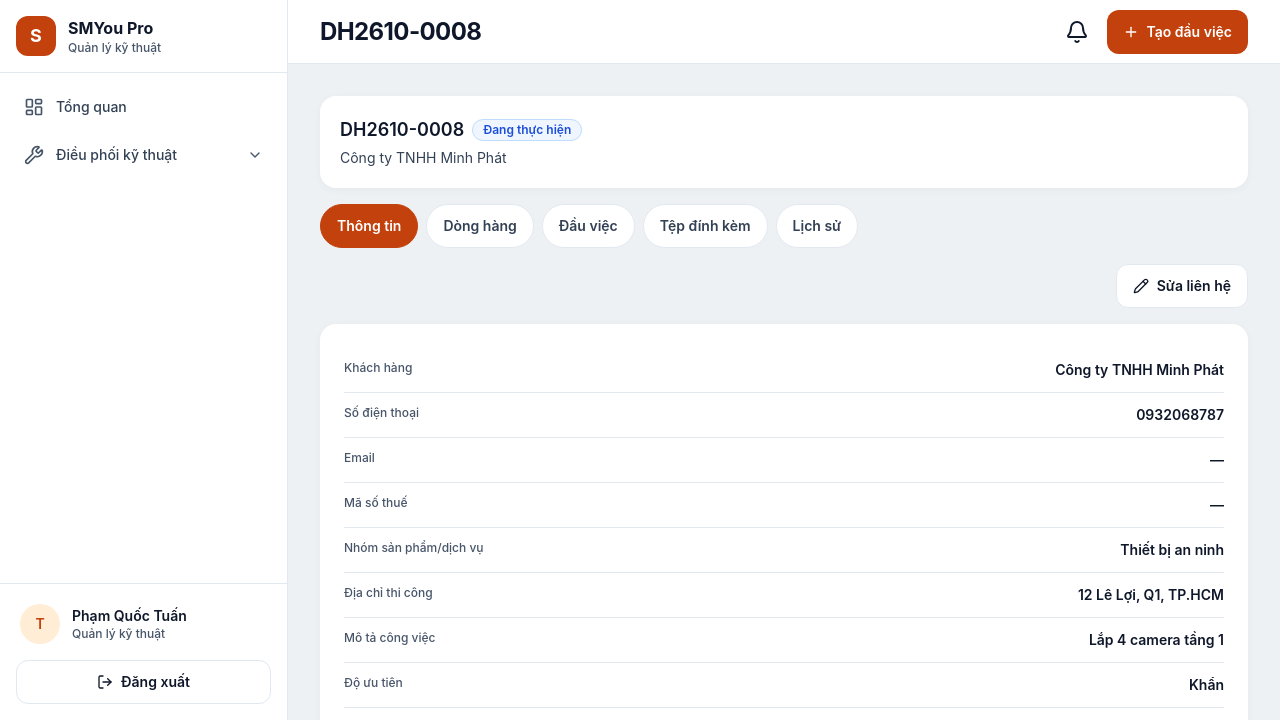
Test: Tab Đầu việc trên trang chi tiết đơn › AC-DSP-028 thứ tự 4 tab, nạp lười, 2 task đúng thứ tự + định dạng giờ/hạn/người giao
The width and height of the screenshot is (1280, 720).
Check: the heading "DH2610-0008" is shown, box top-left (320, 16), bottom-right (481, 48)
Click the tab "Đầu việc": (588, 226) top-left (542, 204), bottom-right (635, 248)
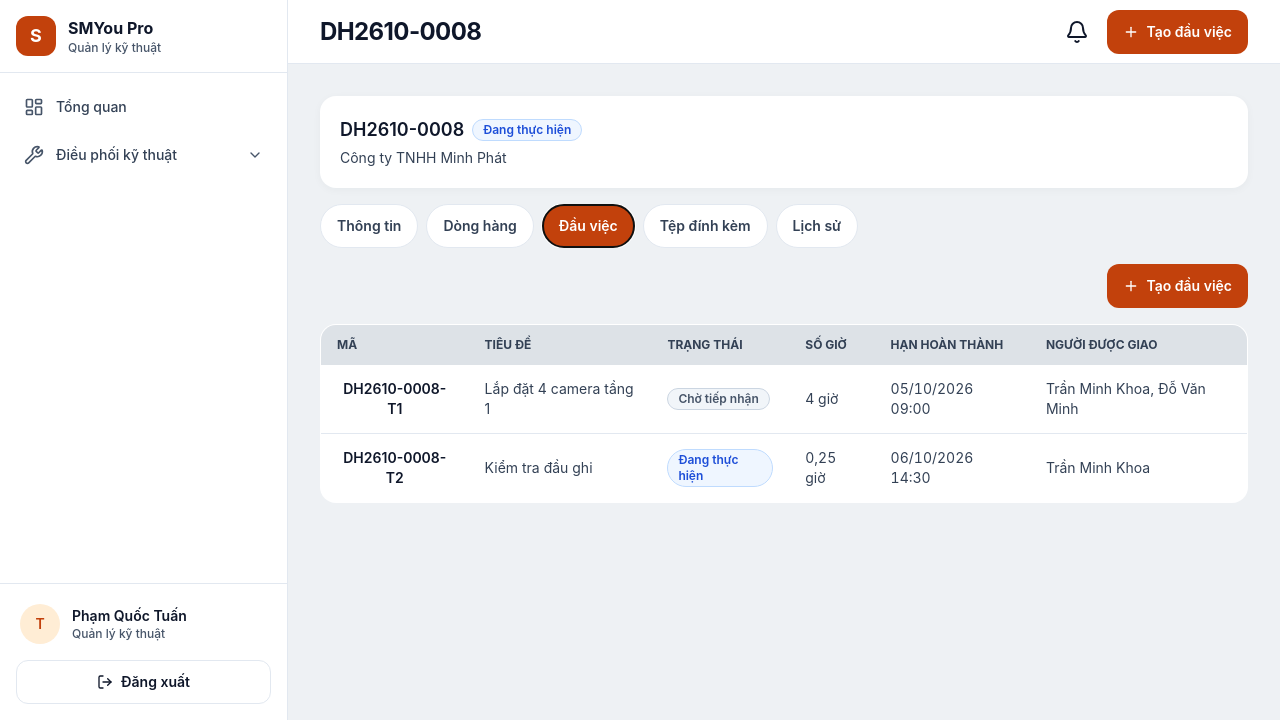
Check: the text "Lắp đặt 4 camera tầng 1" is shown, box top-left (469, 365), bottom-right (651, 434)
Check: the text "Chờ tiếp nhận" is shown, box top-left (667, 388), bottom-right (770, 410)
Check: the text "4 giờ" is shown, box top-left (789, 365), bottom-right (875, 434)
